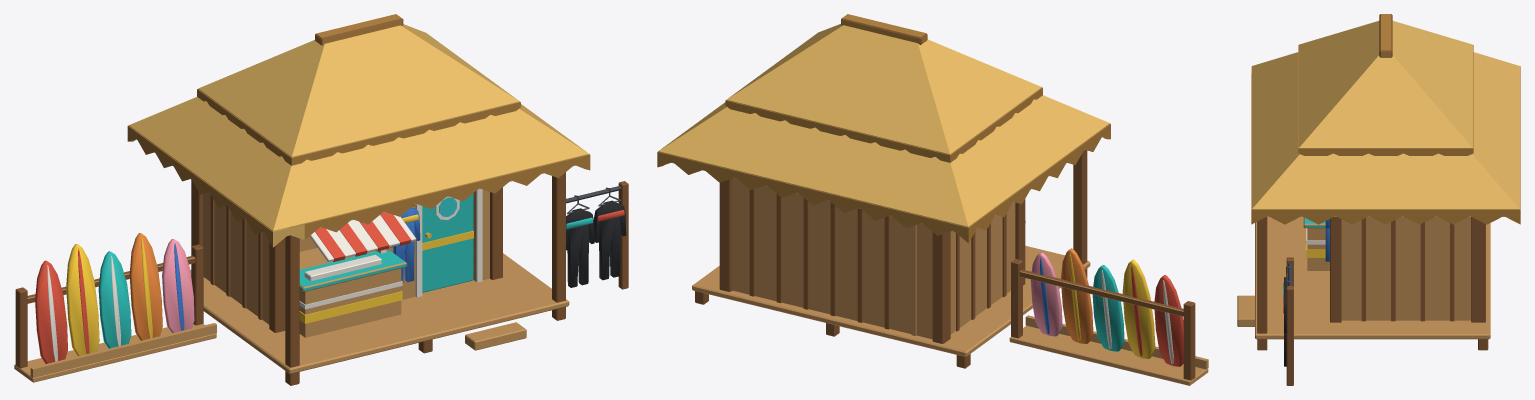
The model's file is dive-shop.glb.
The picture shows the model from 3 angles, left to right: view 1: azimuth 30°, elevation 25°; view 2: azimuth 150°, elevation 25°; view 3: azimuth 270°, elevation 25°; orthographic projection. The views are drawn at different scales.
Visible parts, largest first — view 1: Roof, Shack, SurfRack, Door, Shutter, Surfboard_2, Surfboard_4, Surfboard_1, Surfboard_3, Surfboard_5, Wetsuit_2, Wetsuit_1 (+2 smaller); view 2: Roof, Shack, SurfRack, Surfboard_2, Surfboard_4, Surfboard_1, Surfboard_3, Surfboard_5; view 3: Roof, Shack, WetsuitRack.
Part boxes in pixels (x1,y1,x2,y2): Roof: (127, 14, 590, 247); Shack: (190, 172, 569, 385); SurfRack: (14, 244, 216, 382); Door: (422, 193, 473, 292); Shutter: (309, 212, 416, 262); Surfboard_2: (66, 244, 99, 356); Surfboard_4: (129, 233, 162, 340); Surfboard_1: (35, 260, 67, 363); Surfboard_3: (98, 251, 131, 348); Surfboard_5: (162, 239, 194, 333); Wetsuit_2: (594, 200, 626, 280); Wetsuit_1: (566, 208, 594, 287); Roof: (657, 14, 1110, 243); Shack: (692, 150, 1090, 368); SurfRack: (1009, 259, 1208, 385); Surfboard_2: (1122, 259, 1155, 359); Surfboard_4: (1061, 248, 1093, 343); Surfboard_1: (1154, 275, 1183, 366); Surfboard_3: (1092, 265, 1124, 351); Surfboard_5: (1030, 252, 1062, 336); Roof: (1251, 14, 1520, 224); Shack: (1237, 217, 1490, 350); WetsuitRack: (1286, 257, 1293, 385).
Size of the model in its own units: 39.65 by 19.2 by 19.25.
